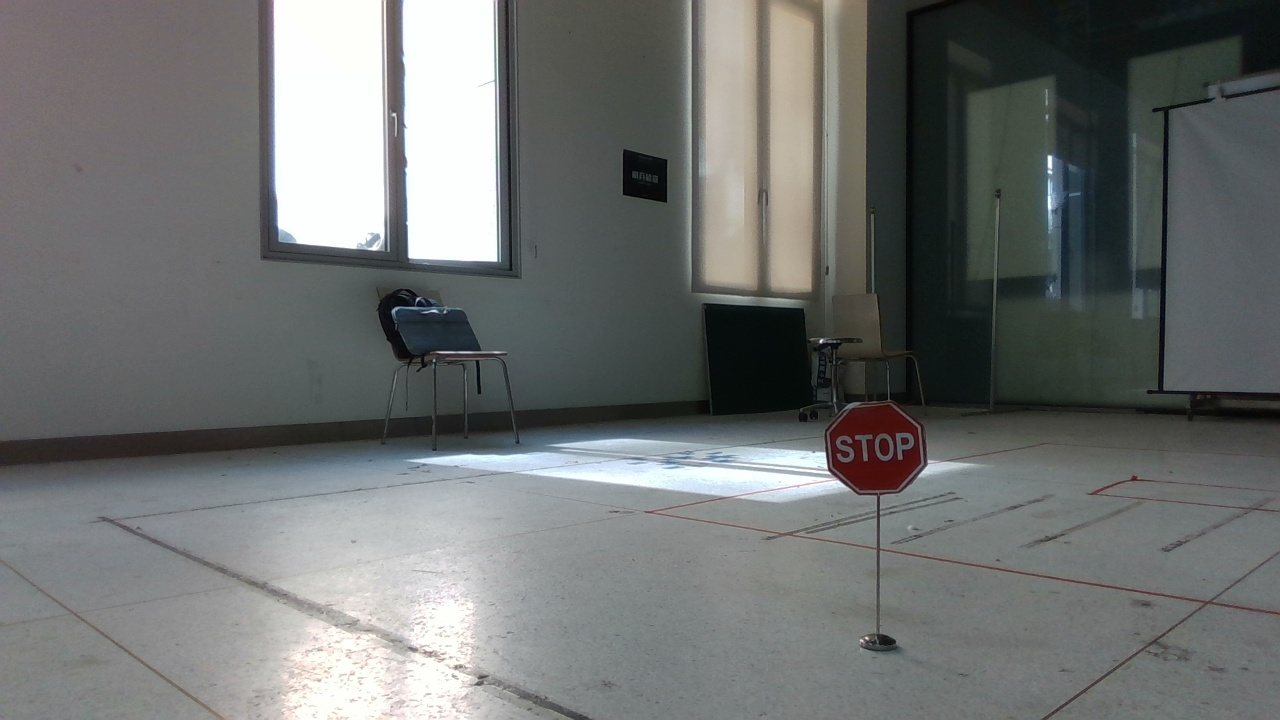stop_sign: (811, 388, 937, 509)
